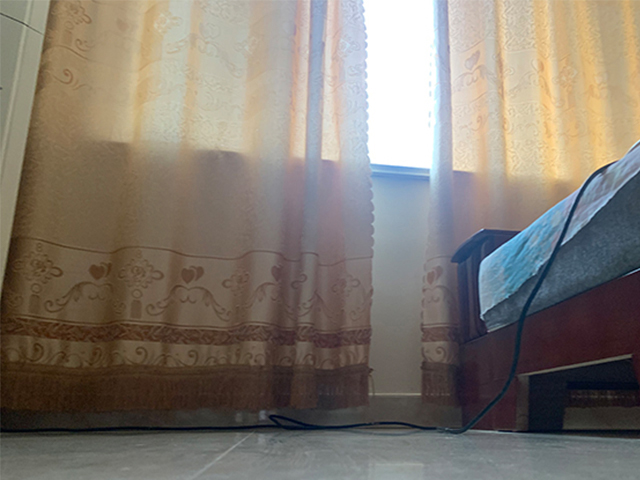curtain: (3, 1, 374, 415), (421, 1, 629, 407)
sofa: (450, 137, 640, 433)
wire: (1, 161, 617, 435)
